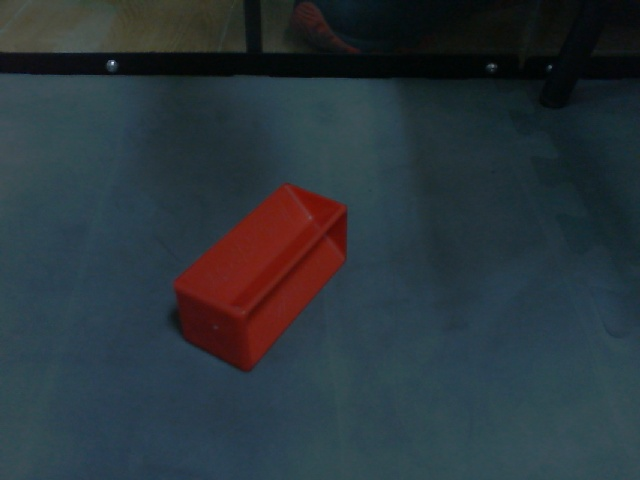RedSample: (171, 181, 351, 374)
